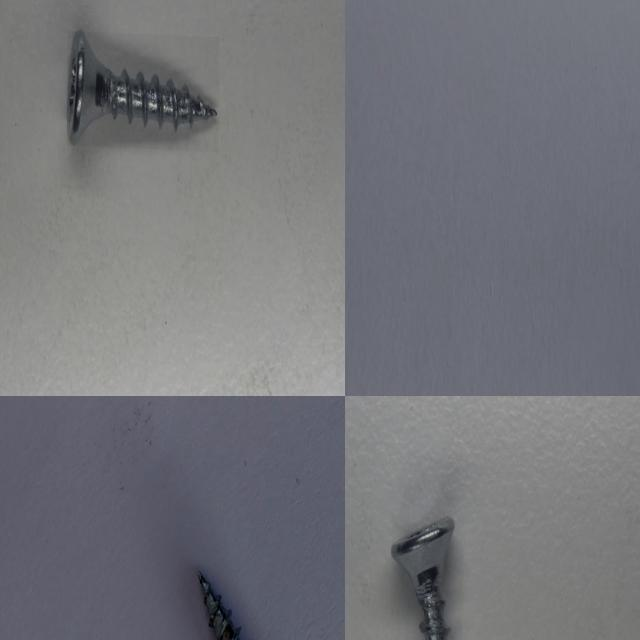Screw: (67, 29, 216, 143), (391, 516, 455, 640), (199, 570, 241, 640)
